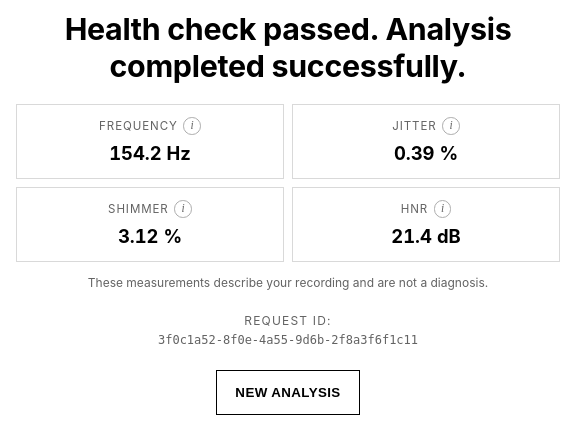
Test case: AnalysisPage › voice measurements › previews another explanation on mouse hover while one is open
The width and height of the screenshot is (577, 432).
Click the button named "What is Jitter?".
click(451, 126)  # box [442,117,460,135]
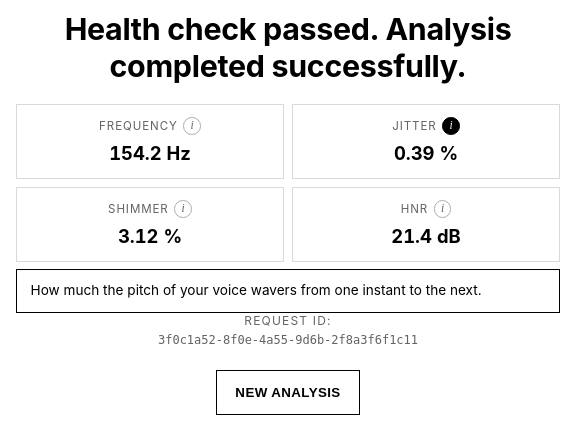
Hover over the button named "What is HNR?".
mouse_move(442, 209)  # box [434,200,451,218]
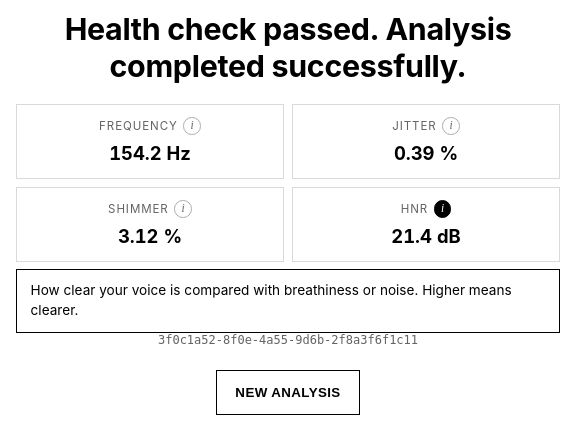
Expected: the text "How clear your voice is" is shown, [31,282,512,318]
Expected: the text "pitch of your voice wavers" is gone
Move the pointer off the button named "What is HNR?", box [434,200,451,218]
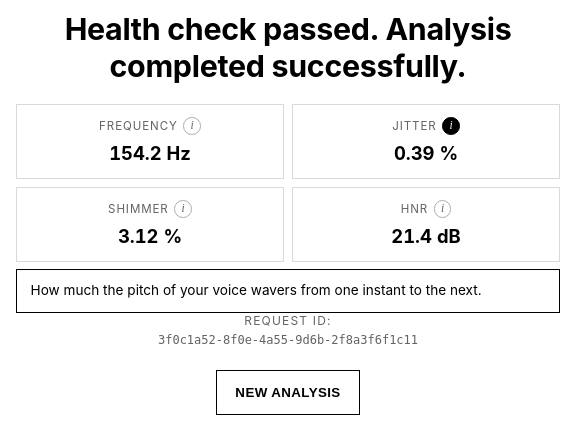
Expected: the text "pitch of your voice wavers" is shown, [31,282,482,298]
